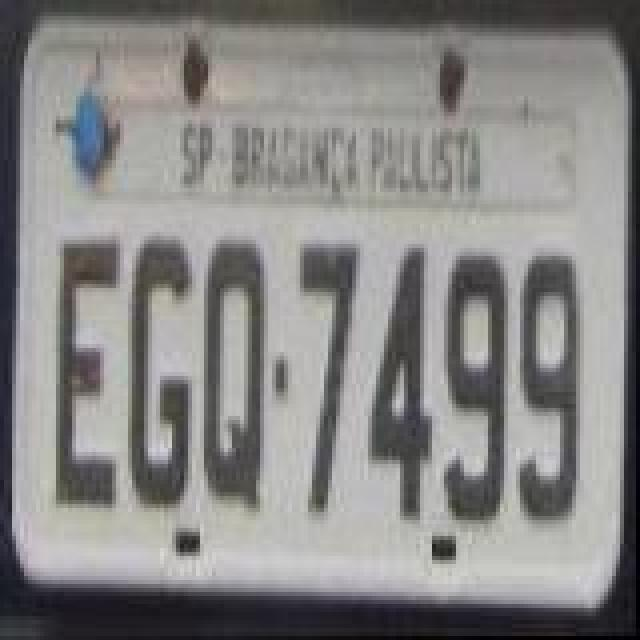4: (370, 240, 434, 524)
7: (294, 236, 358, 512)
9: (518, 246, 582, 530), (446, 248, 510, 524)
E: (52, 238, 120, 514)
G: (130, 230, 194, 514)
Q: (202, 232, 266, 516)
